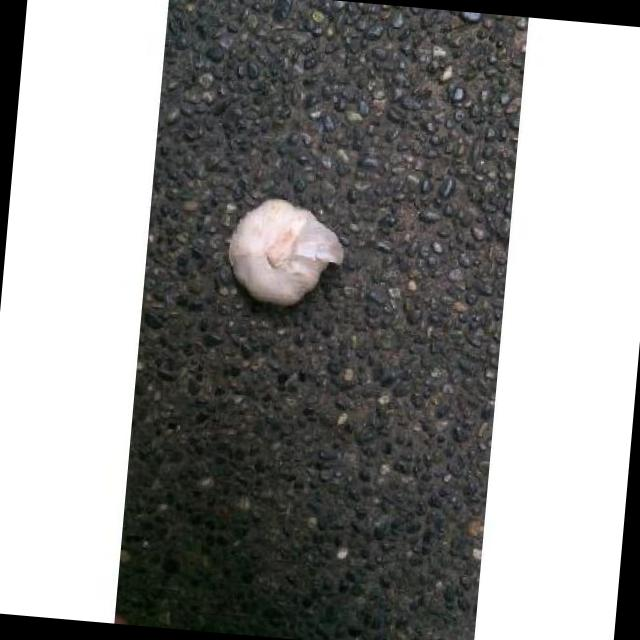garlic: (229, 199, 343, 305)
